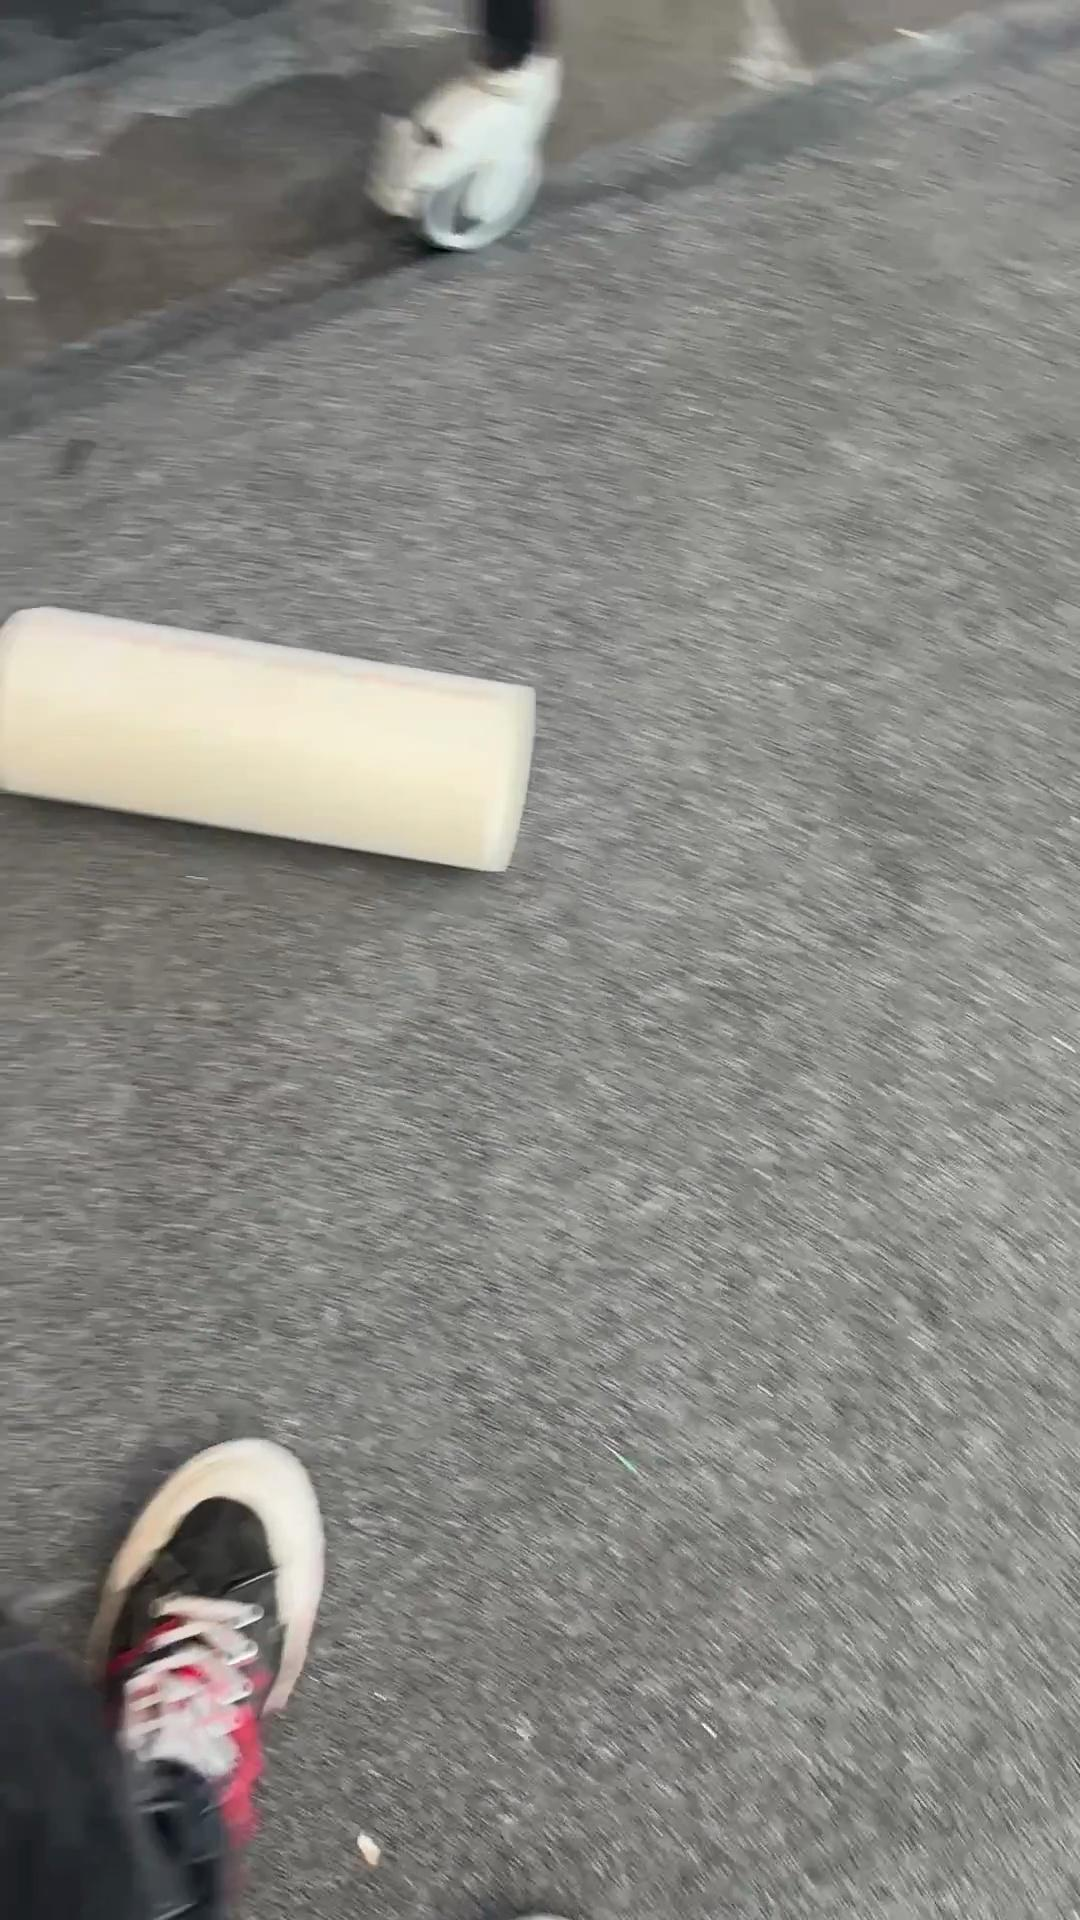CORAL: (3, 601, 537, 876)
